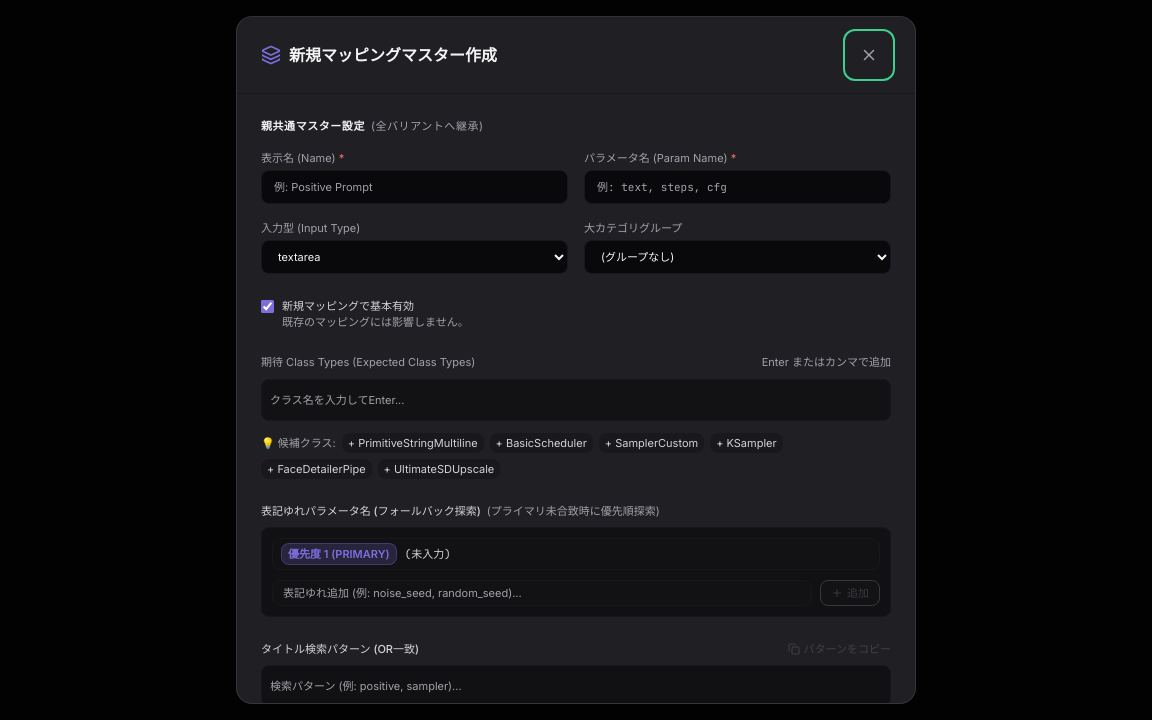
MappingMasterEditModal Dynamic ClassType Autocomplete Dropdown › navigates candidates with keyboard (ArrowDown/ArrowUp) and selects on Enter
Type "ksam" into the field with placeholder "クラス名を入力してEnter..." at x=576, y=400, box [270,392,882,408]
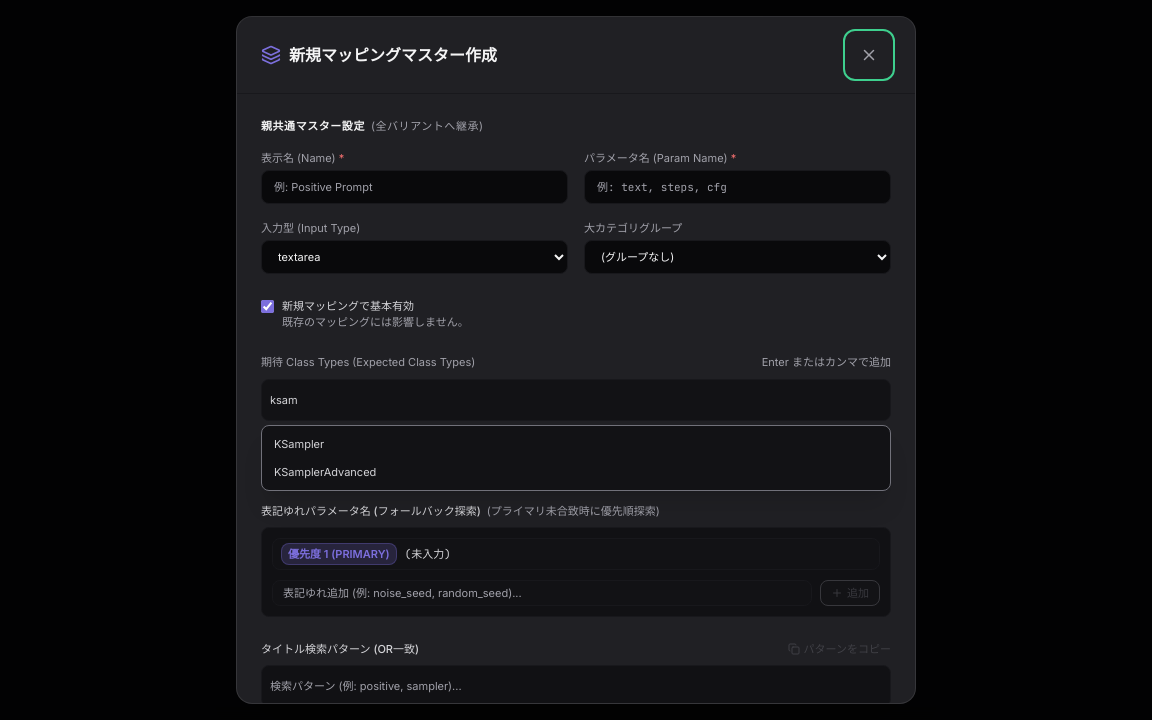
Check: the list with test id "classtype-autocomplete-dropdown" is shown, box [261,424,891,490]
# Down arrow to highlight first item (index 0)
Press ArrowDown in the field with placeholder "クラス名を入力してEnter...", box [270,392,882,408]
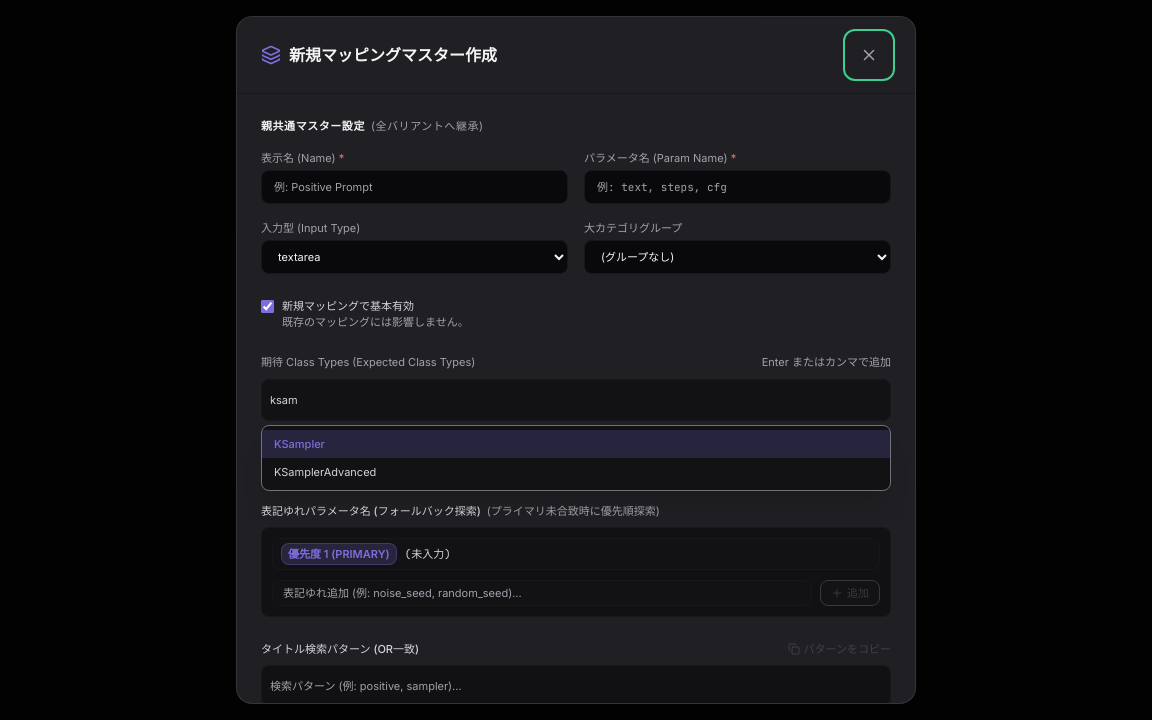
# Down arrow to highlight second item (index 1)
Press ArrowDown in the field with placeholder "クラス名を入力してEnter...", box [270,392,882,408]
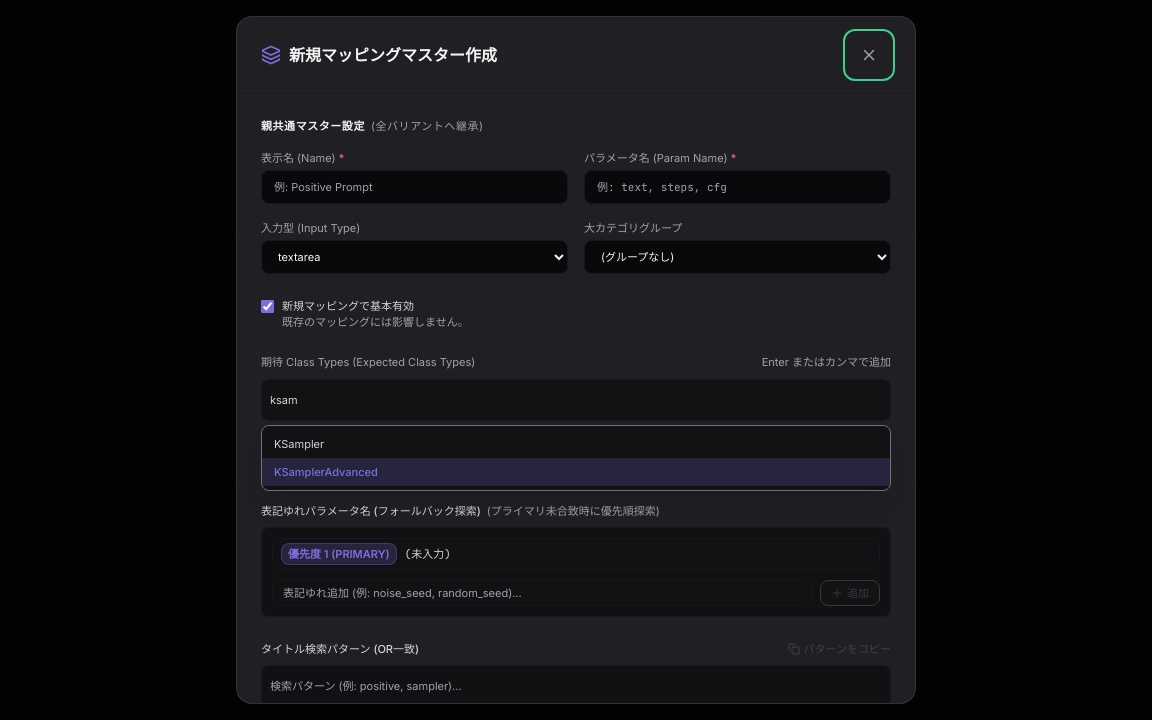
# Enter to select
Press Enter in the field with placeholder "クラス名を入力してEnter...", box [270,392,882,408]
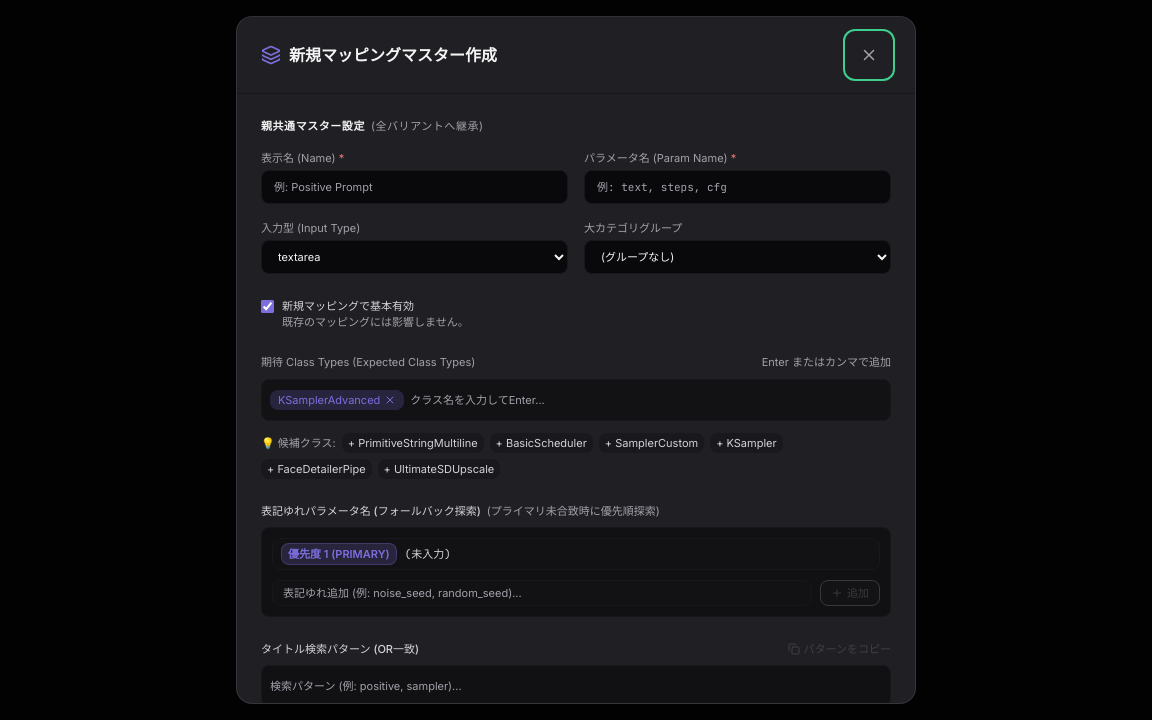
Check: the button named "KSamplerAdvanced を削除" is shown, box [384,394,396,406]
Check: the field with placeholder "クラス名を入力してEnter..." is empty, box [410,392,882,408]
